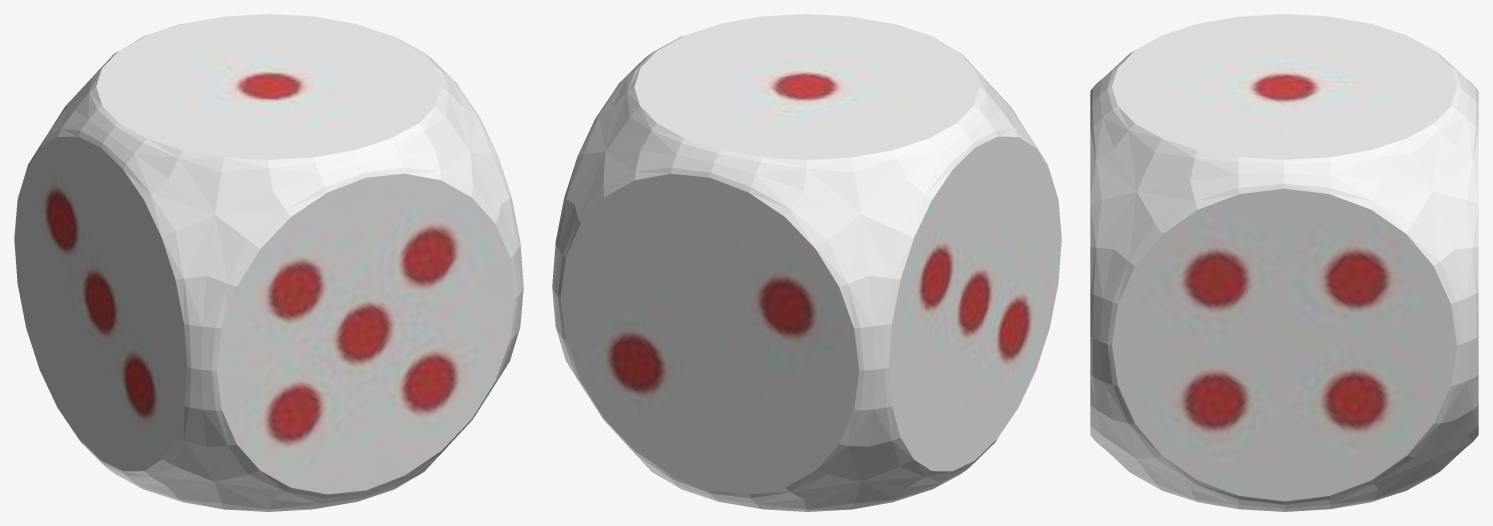
The model's file is die.glb.
3 renders of one model, left to right at view 1: azimuth 30°, elevation 25°; view 2: azimuth 150°, elevation 25°; view 3: azimuth 270°, elevation 25°, orthographic.
Visible parts, largest first — view 1: die_rounded.obj; view 2: die_rounded.obj; view 3: die_rounded.obj.
Part boxes in pixels (<box>): die_rounded.obj: <box>14,14,523,511</box>; die_rounded.obj: <box>552,14,1061,511</box>; die_rounded.obj: <box>1090,14,1478,511</box>.
Bounding box in the file's own units: 1 × 1 × 1.
1 material, 1 textured.
